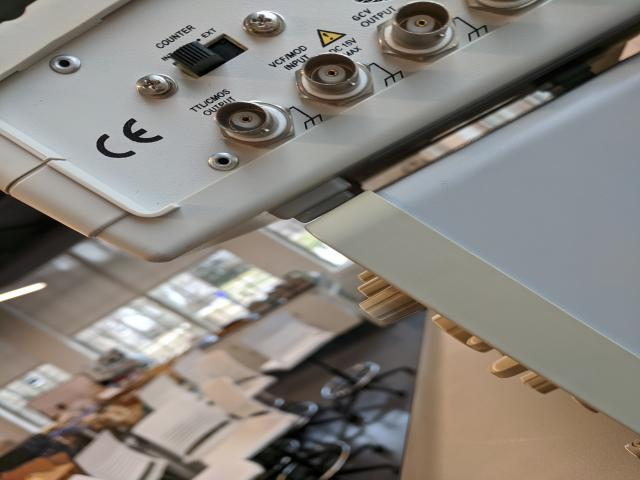CRS: (240, 11, 286, 33), (133, 74, 170, 96)
